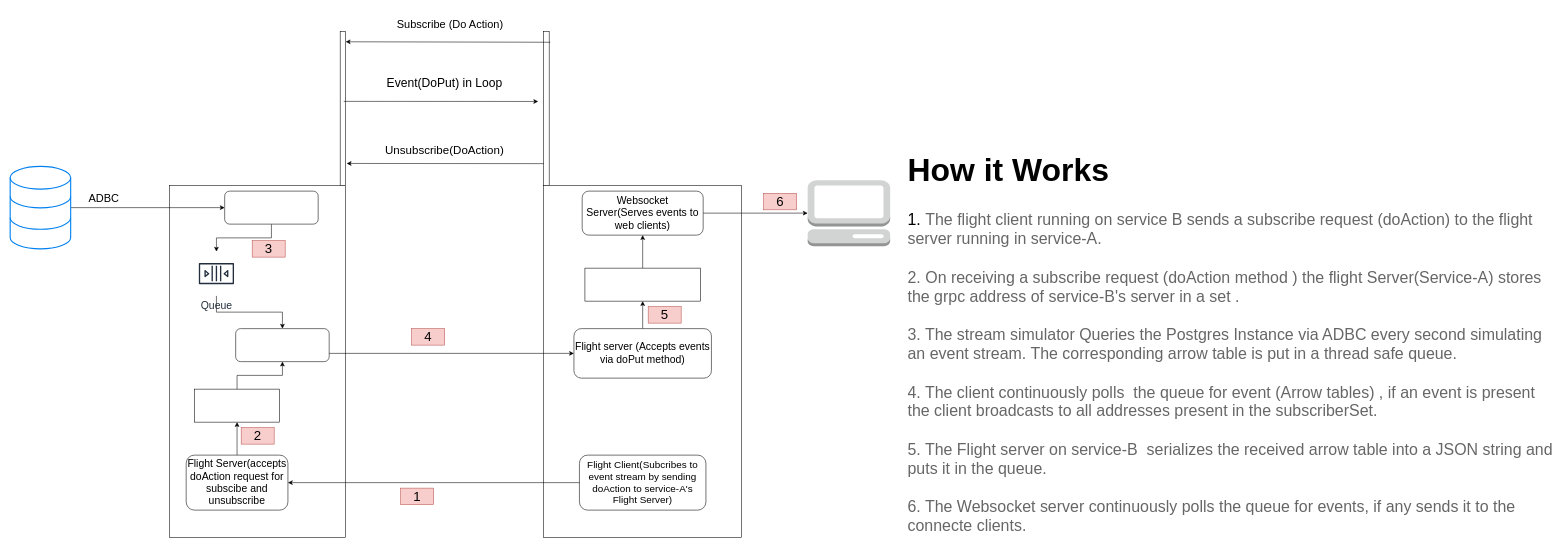
This 1565x547 diagram has some shape labels left out. The shapes that lost their labels are listed below. From the top down, each one's centre as x and y in pixels, then its label:
point 271,207: Stream Simulator Thread
point 642,284: Shared Memory Queue for IPC between Flight server and websocket Server
point 282,345: Flight Client(handles data broadcast)
point 237,405: Python set datatype Stores list of subscriber address
